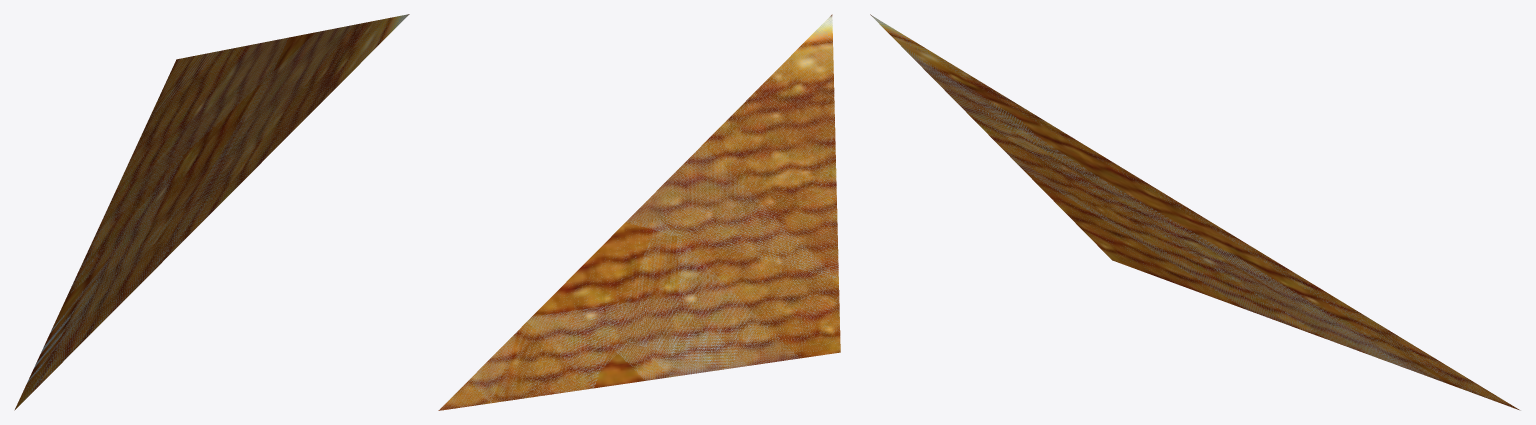
File: 西庸城堡285.dae
3 views of the same model, side by side, from view 1: azimuth 30°, elevation 25°; view 2: azimuth 150°, elevation 25°; view 3: azimuth 270°, elevation 25° (orthographic). The views are drawn at different scales.
Visible parts, largest first — view 1: SketchUp; view 2: SketchUp; view 3: SketchUp.
Boxes of the visible parts, bbox=[...] form: SketchUp: bbox=[14, 14, 409, 410]; SketchUp: bbox=[438, 14, 840, 410]; SketchUp: bbox=[870, 14, 1520, 410].
Bounding box in the file's own units: 61.36 × 112 × 59.06.
